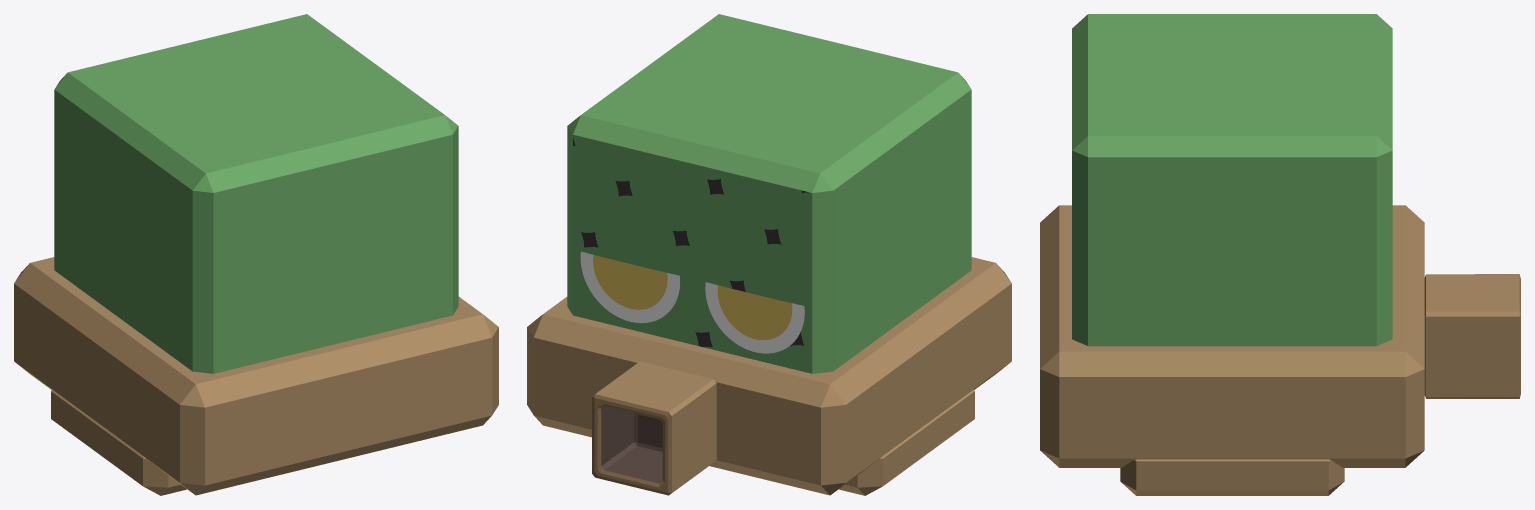
Rendered from cactan.fbx.
3 renders of one model, left to right at view 1: azimuth 30°, elevation 25°; view 2: azimuth 150°, elevation 25°; view 3: azimuth 270°, elevation 25°, orthographic. The views are drawn at different scales.
Parts seen in each view (by area): view 1: tank1; view 2: tank1; view 3: tank1.
Boxes of the visible parts, box(x1,y1,x2,y2) form: tank1: box(14, 14, 498, 495); tank1: box(527, 14, 1011, 495); tank1: box(1040, 14, 1520, 495).
Size of the model in its own units: 1.2 by 1.2 by 1.5.
Materials: 4 (2 with a texture image).
